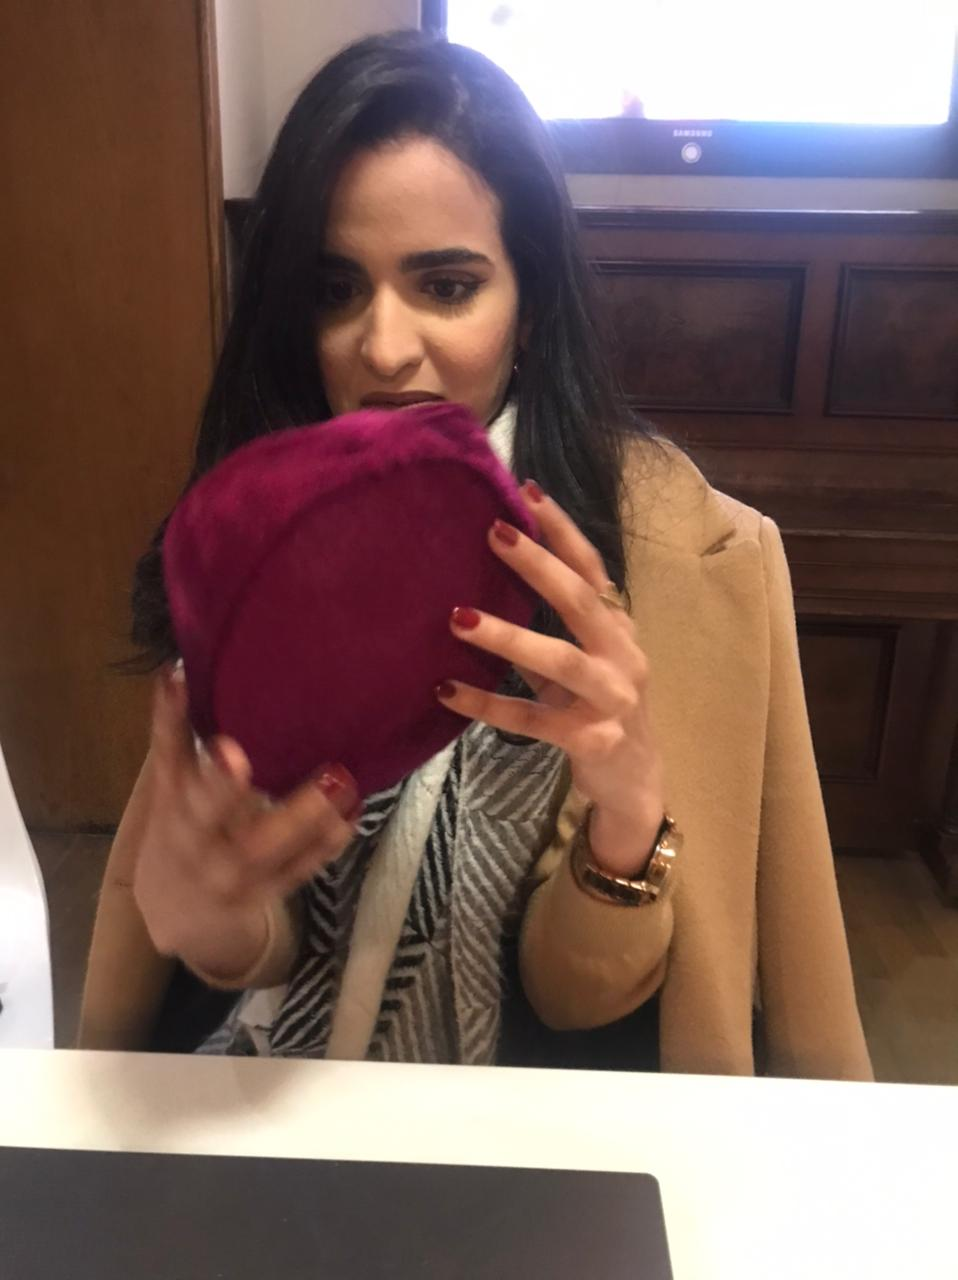chachia: (134, 390, 564, 818)
